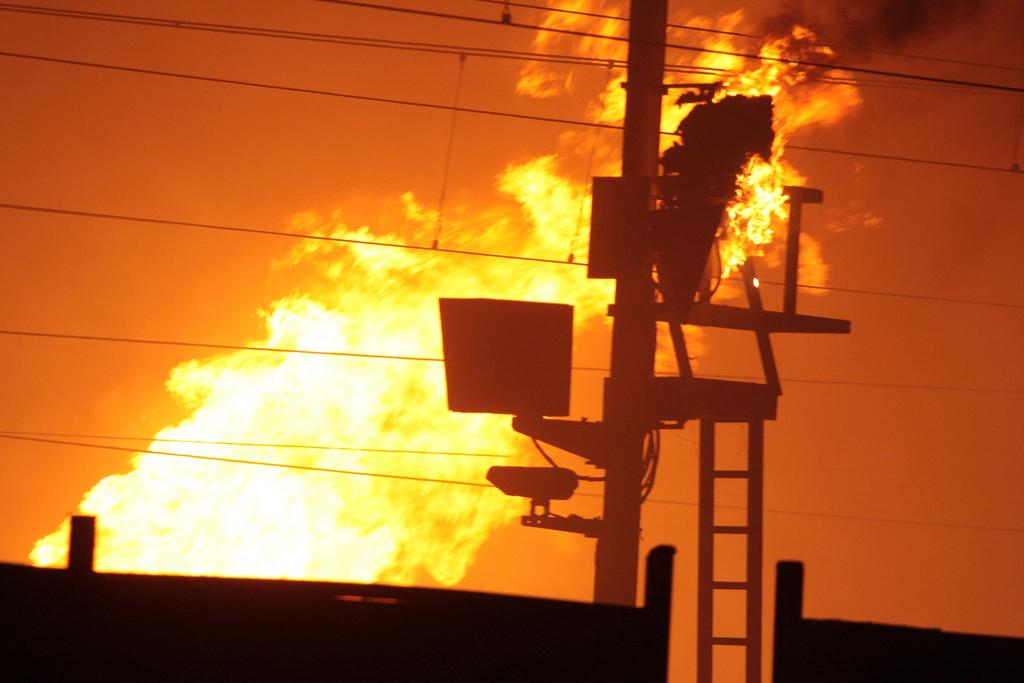fire: (263, 322, 427, 505), (117, 432, 252, 567), (490, 155, 585, 280), (755, 17, 848, 132), (733, 162, 788, 277)
